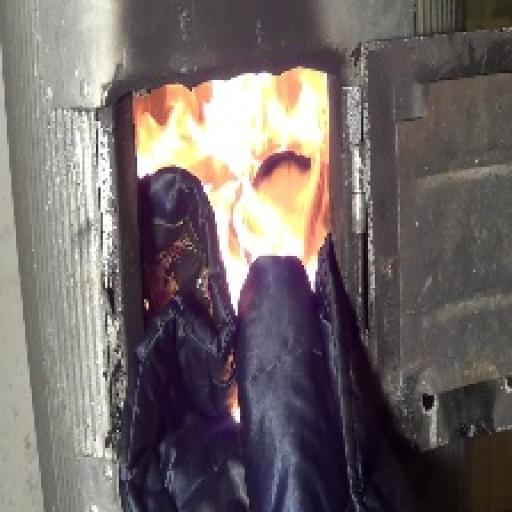fire and smoke: (135, 66, 327, 302)
